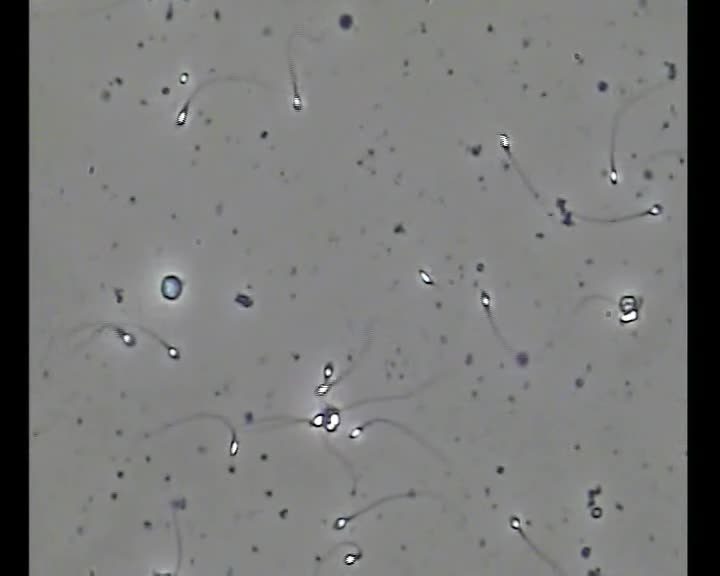spermhead: (497, 132, 511, 154), (344, 551, 362, 565), (333, 516, 348, 530), (647, 203, 663, 216)
